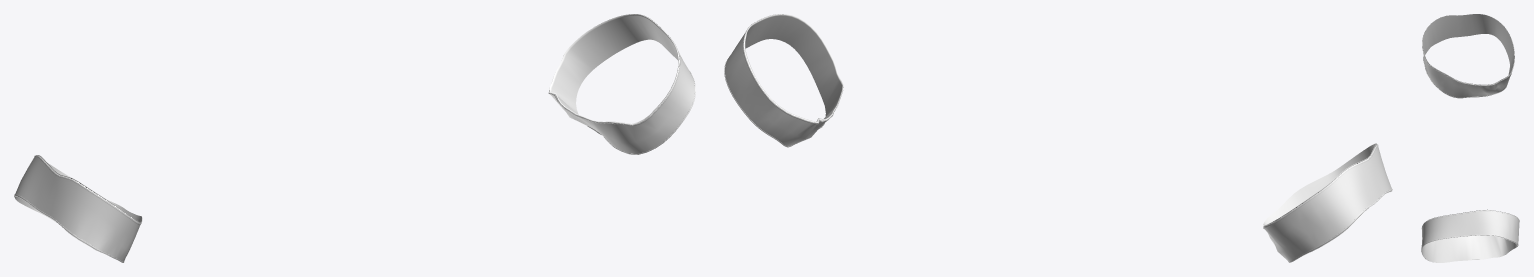
Rendered from Jac_Flic_Full.glb.
3 views of the same model, side by side, from view 1: azimuth 30°, elevation 25°; view 2: azimuth 150°, elevation 25°; view 3: azimuth 270°, elevation 25° (orthographic). The views are drawn at different scales.
Parts seen in each view (by area): view 1: Jac_Flic_Full.001, Jac_Rope_Flic_Full.001; view 2: Jac_Flic_Full.001, Jac_Rope_Flic_Full.001; view 3: Jac_Flic_Full.001, Jac_Rope_Flic_Full.001.
Boxes of the visible parts, box(x1,y1,x2,y2) form: Jac_Flic_Full.001: box(14, 14, 694, 262); Jac_Rope_Flic_Full.001: box(14, 14, 695, 262); Jac_Flic_Full.001: box(725, 14, 1392, 262); Jac_Rope_Flic_Full.001: box(724, 14, 1392, 262); Jac_Flic_Full.001: box(1421, 14, 1519, 262); Jac_Rope_Flic_Full.001: box(1421, 16, 1519, 262).
Bounding box in the file's own units: 1.13 × 0.1859 × 0.231.
Materials: 2 (2 with a texture image).
